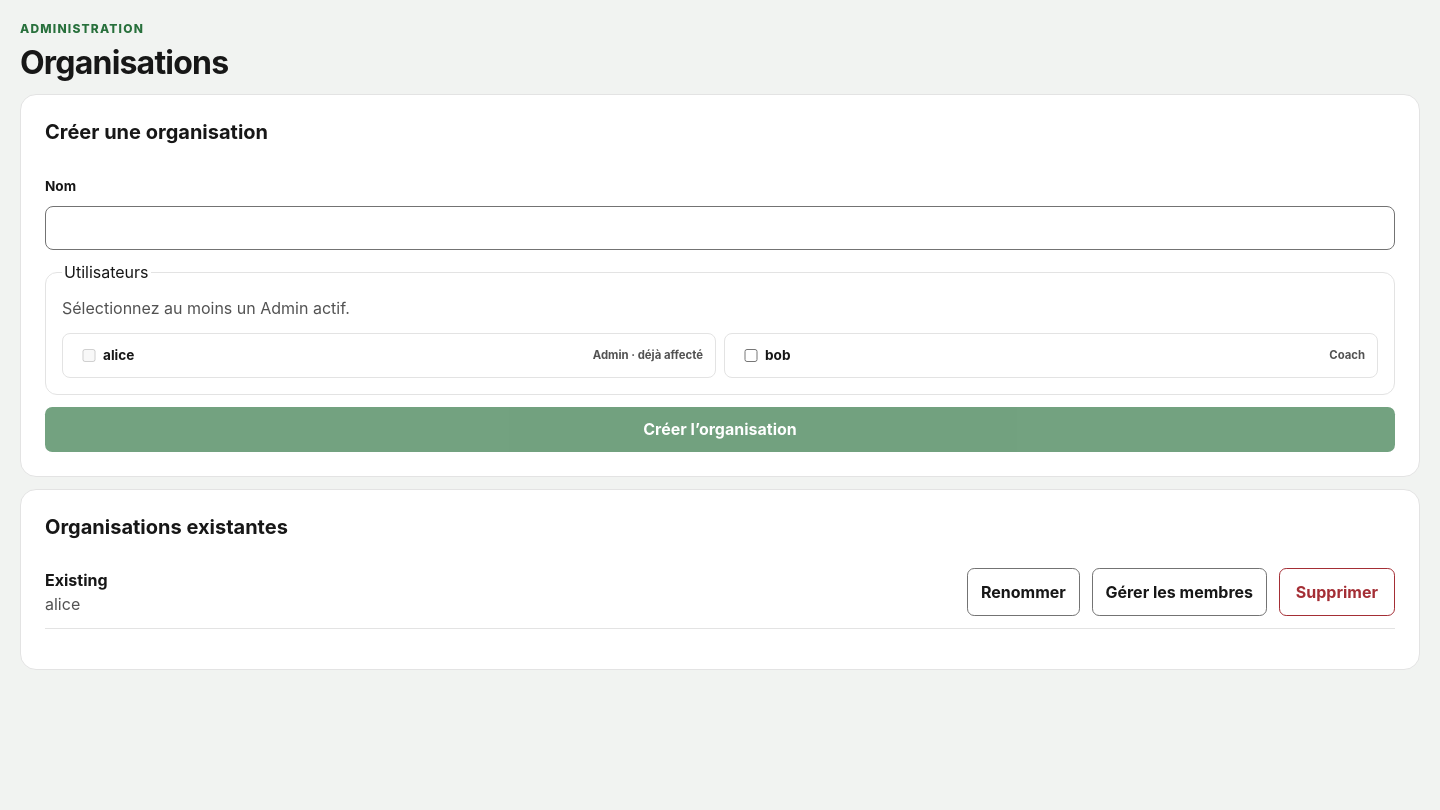
loads existing organizations and can unselect a user
Expected: the text "Existing" is shown, [45, 570, 108, 590]
Type "Another" into the field labelled "Nom" at {"x": 720, "y": 228}, box [45, 206, 1395, 250]
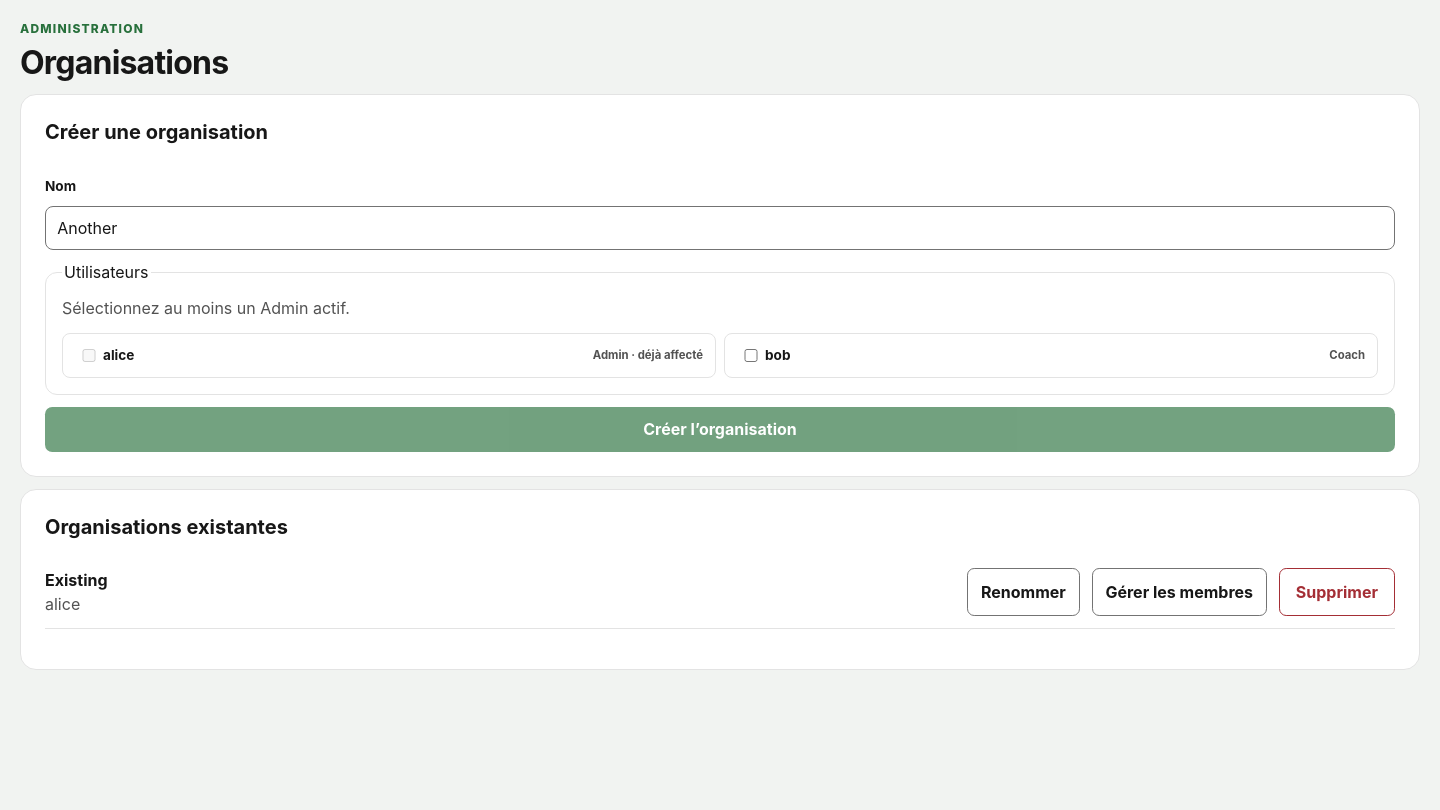
Click the checkbox labelled "alice Admin · déjà affecté" at {"x": 89, "y": 355}, box [79, 348, 99, 362]
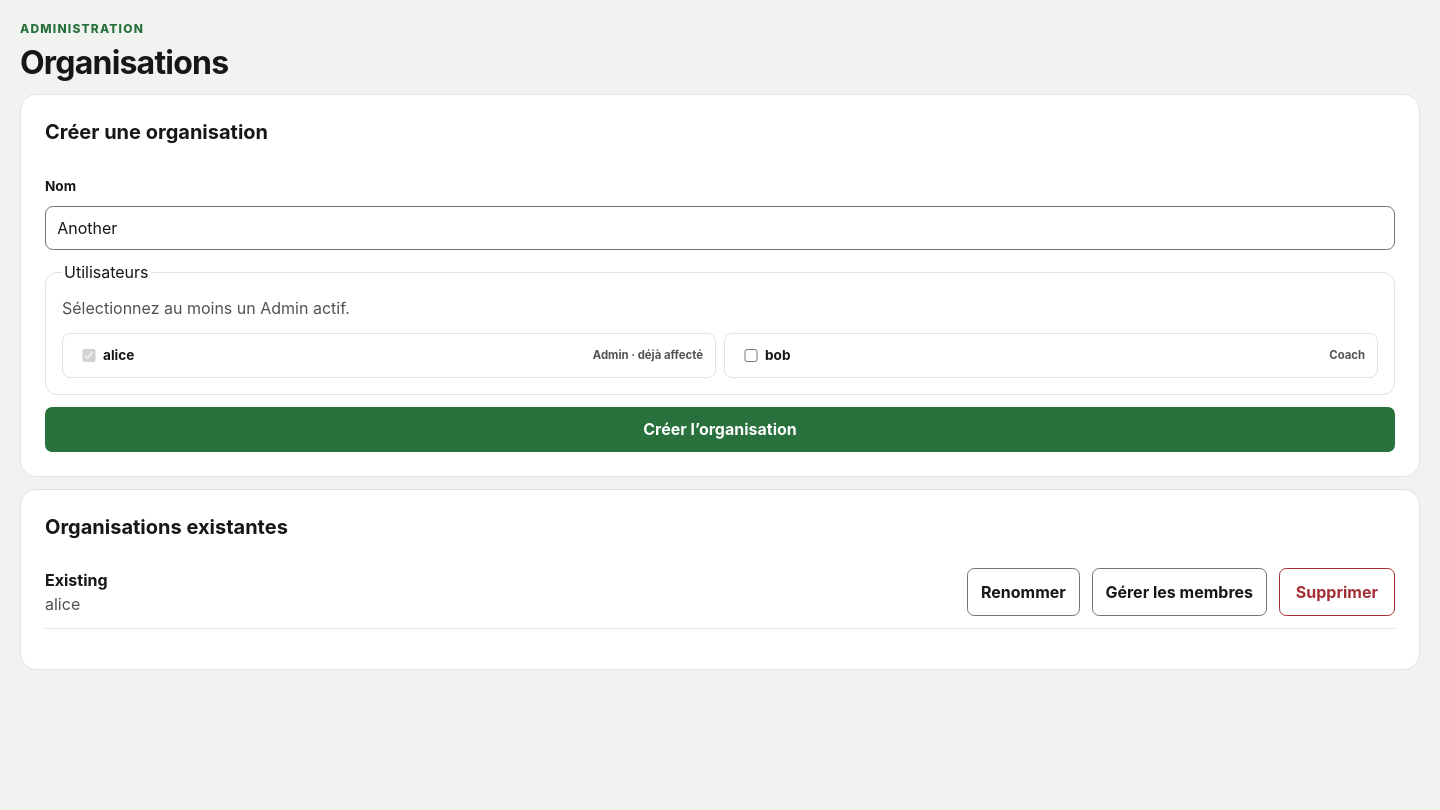
Result: the button "Créer l’organisation" is enabled at [45, 406, 1395, 452]
Click the checkbox labelled "alice Admin · déjà affecté" at {"x": 89, "y": 355}, box [79, 348, 99, 362]
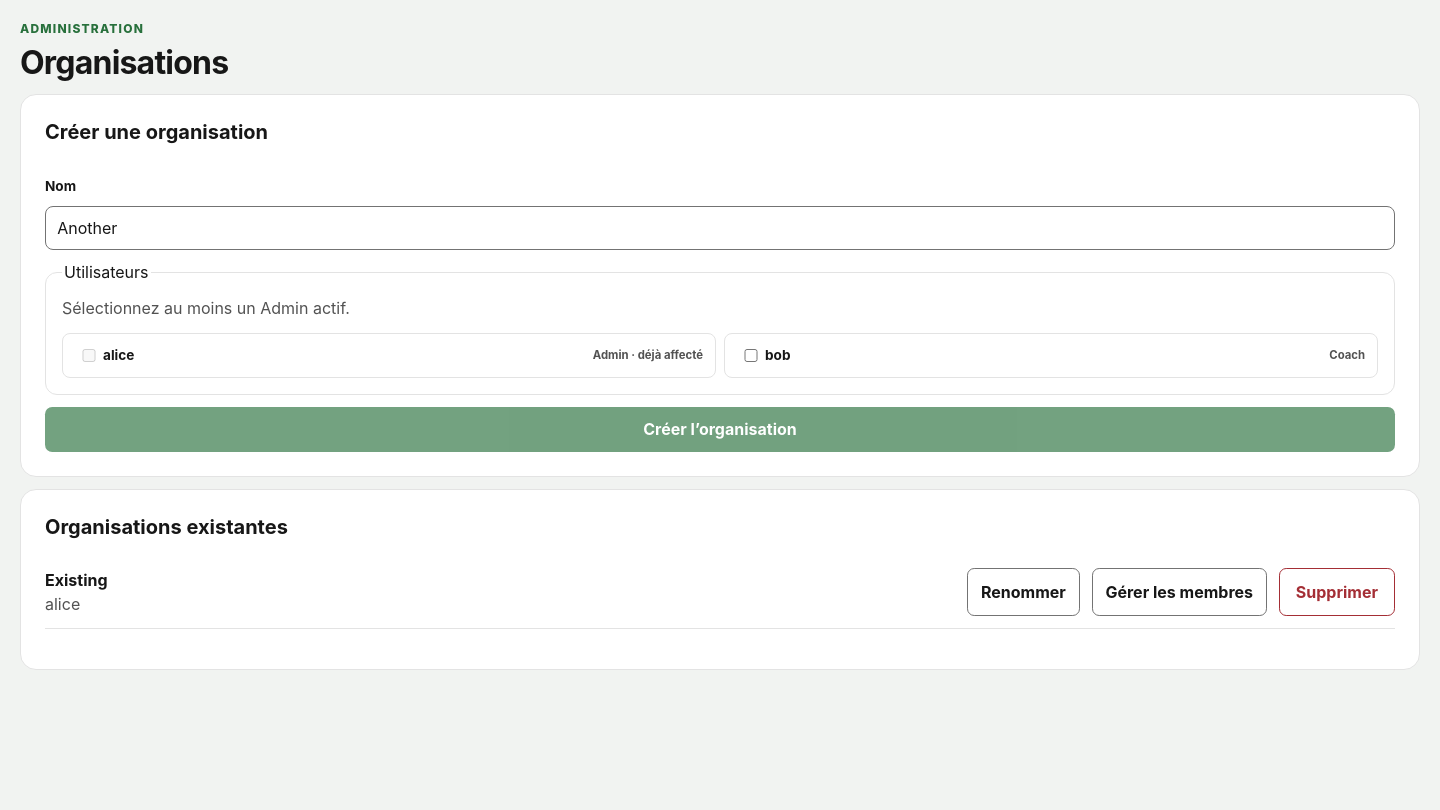
Result: the checkbox labelled "alice Admin · déjà affecté" is not checked at [79, 348, 99, 362]
Result: the button "Créer l’organisation" is disabled at [45, 406, 1395, 452]
